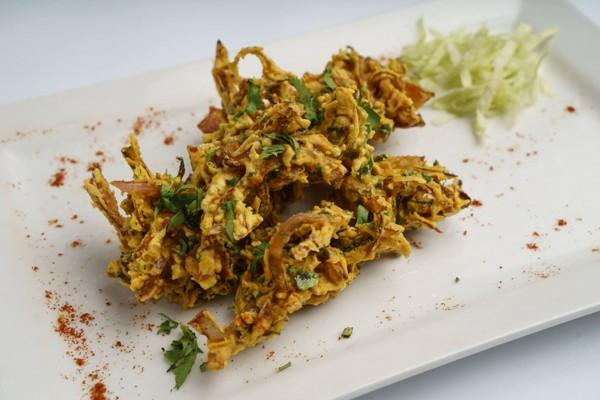OnionPakoda: (85, 36, 478, 362)
